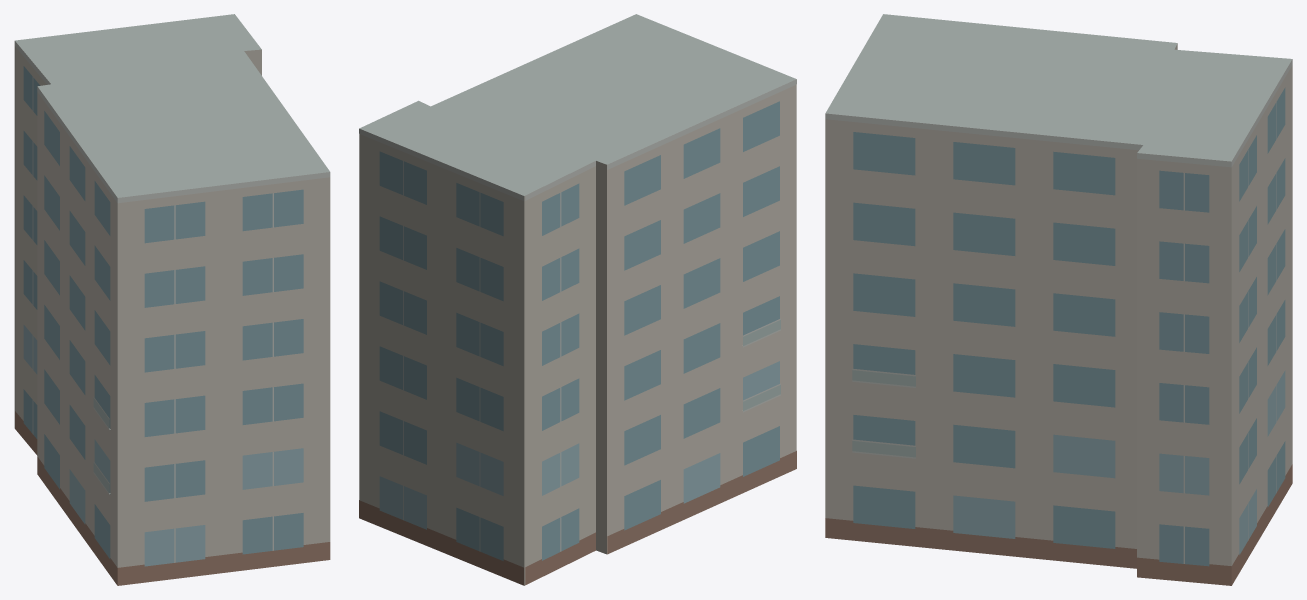
Rendered from survey-upis-32723466.glb.
3 renders of one model, left to right at view 1: azimuth 30°, elevation 25°; view 2: azimuth 150°, elevation 25°; view 3: azimuth 270°, elevation 25°, orthographic. The views are drawn at different scales.
Parts seen in each view (by area): view 1: survey-upis-32723466.tmp; view 2: survey-upis-32723466.tmp; view 3: survey-upis-32723466.tmp.
Part boxes in pixels (x1,y1,x2,y2): survey-upis-32723466.tmp: (14,14,330,585); survey-upis-32723466.tmp: (359,14,796,585); survey-upis-32723466.tmp: (825,14,1292,585).
Bounding box in the file's own units: 13.36 × 17.9 × 17.88.
